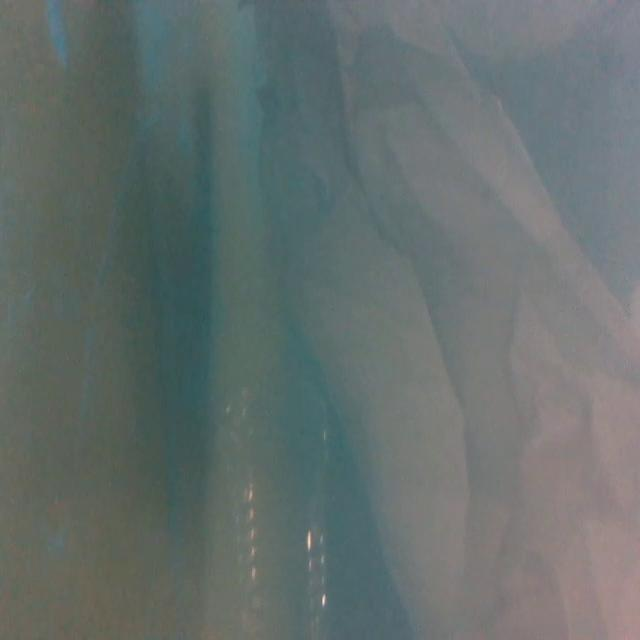plastic bags: (264, 9, 639, 640)
plastic bottle: (218, 382, 337, 640)
